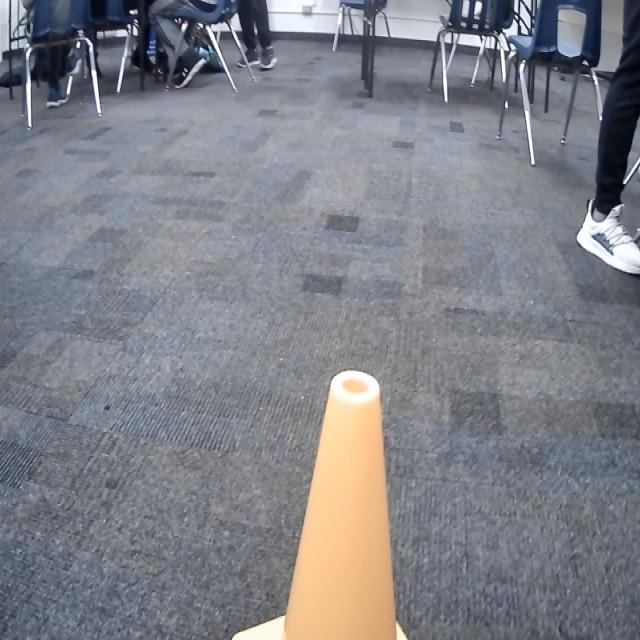cone: (229, 366, 418, 640)
